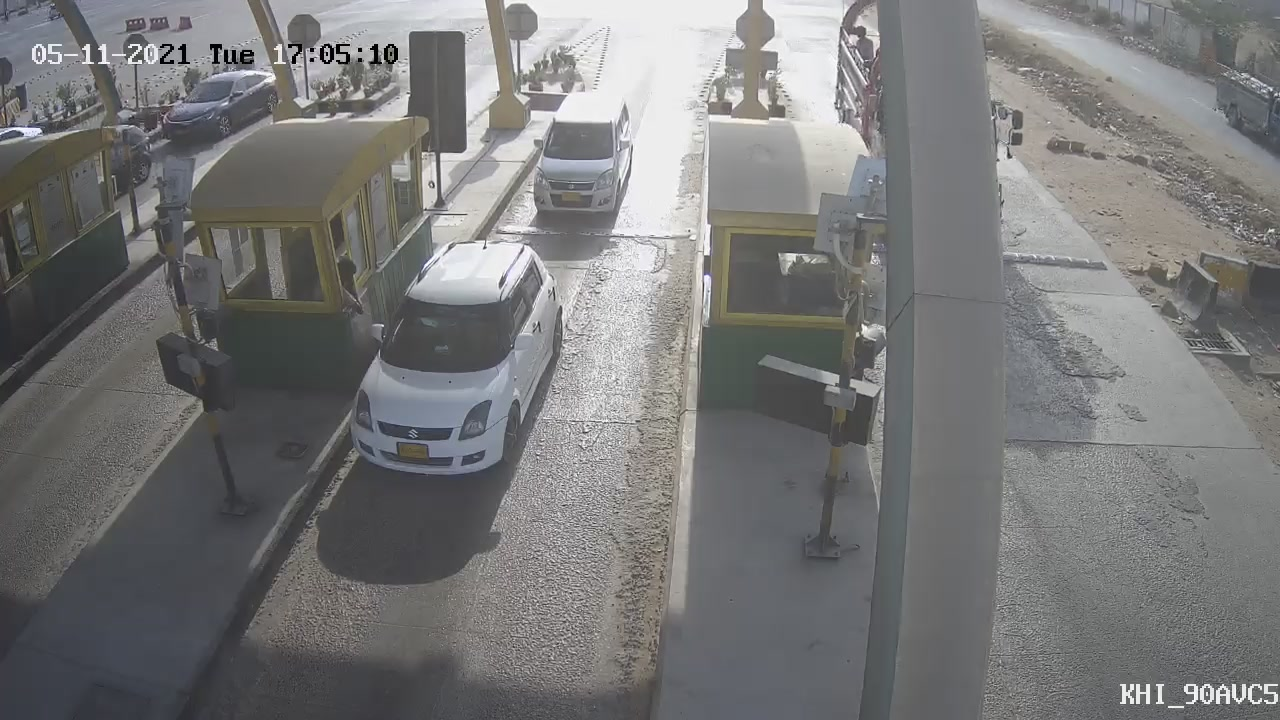F1: (327, 224, 590, 500), (515, 79, 649, 231)
